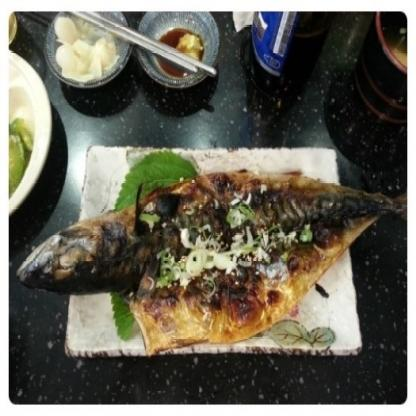Peixe: (12, 170, 404, 360)
